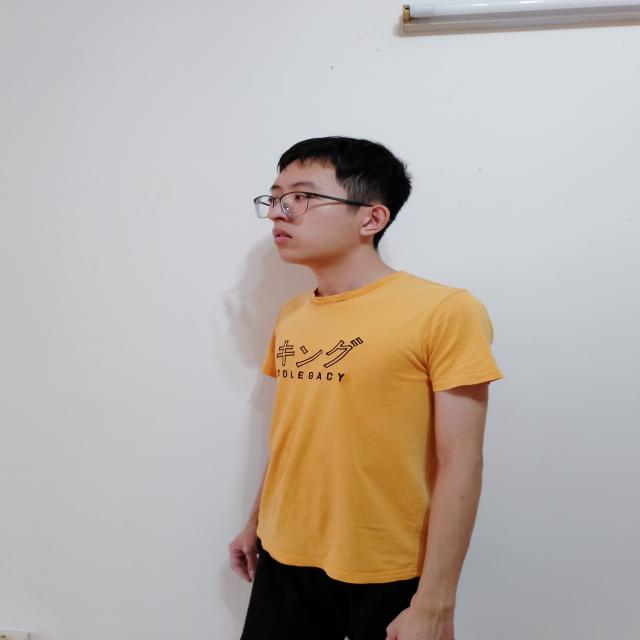person_without_labcoat: (229, 137, 502, 640)
